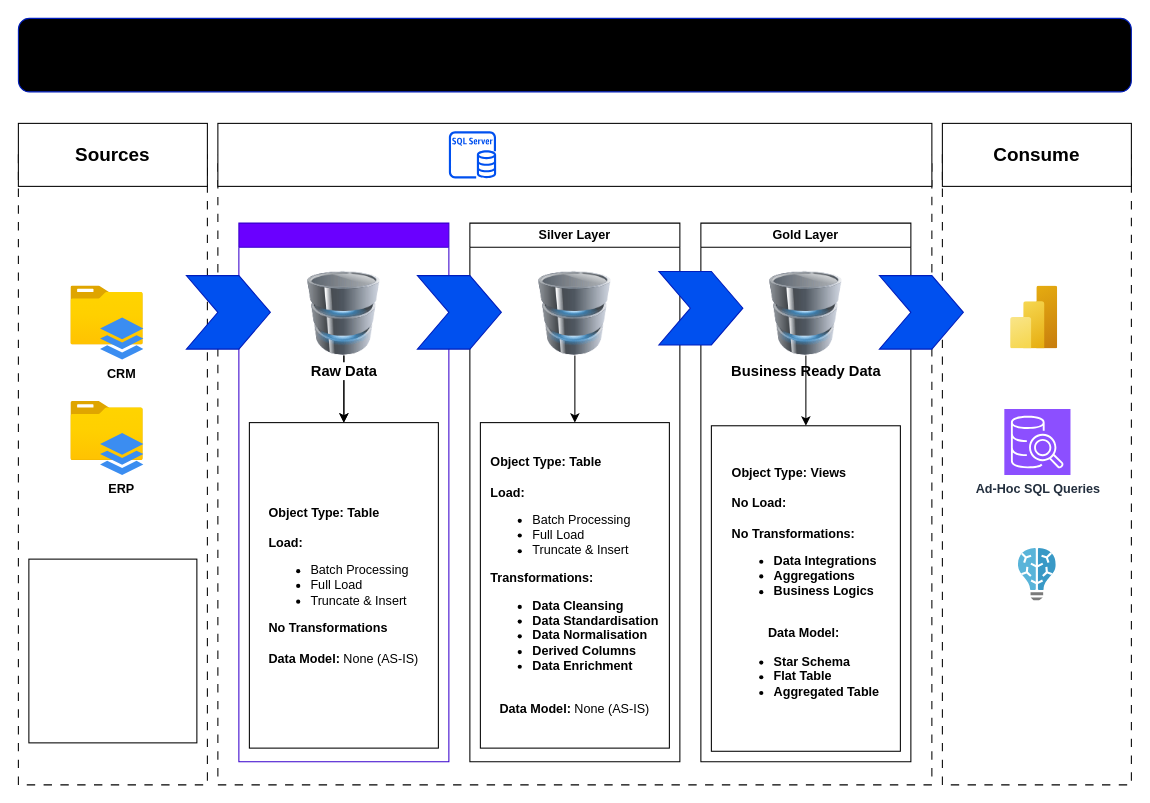
The diagram is 1150 pixels wide and 803 high, and some of its shapes have lost their labels. The box of each missing label's shape, as (x1, y1, x2, y2) in pixels:
BI & Reporting: (1010, 286, 1057, 349)
Bronze Layer: (238, 222, 449, 762)
Cleaned, Standardised Data: (532, 271, 616, 355)
Data Warehouse: (217, 122, 932, 186)
Machine Learning: (1018, 548, 1056, 601)
Object Type: CSV Files Interface: Files in Folder: (28, 558, 197, 743)
